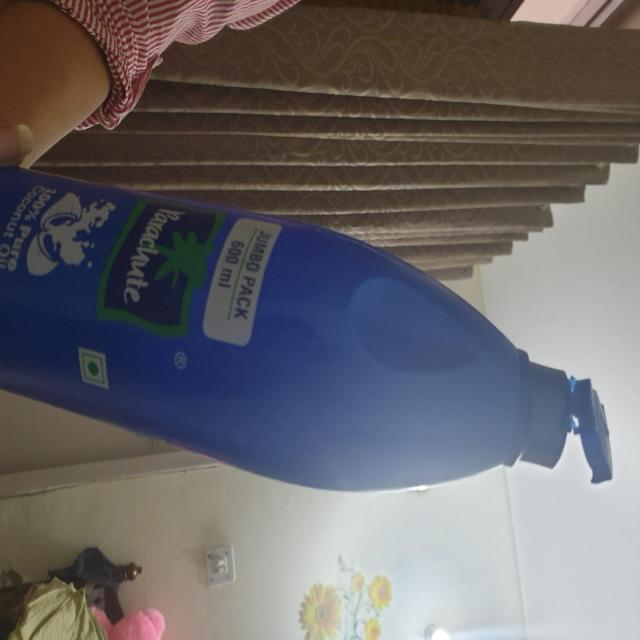parachute_oil: (1, 123, 613, 500)
